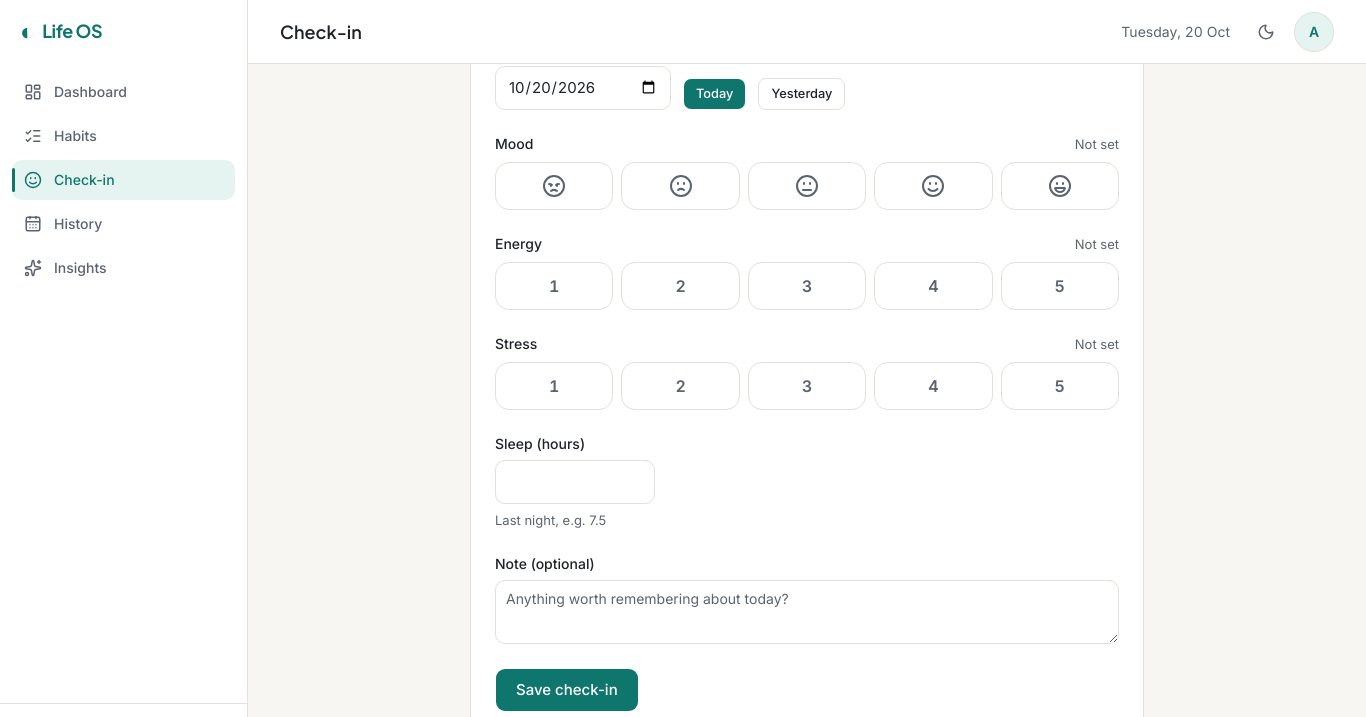
CheckInPage › needs at least one metric
(page scrolled)
Type "Only a note" into the text box labelled "Note (optional)".
click(807, 612); type("Only a note")  # box left=495, top=580, right=1119, bottom=644
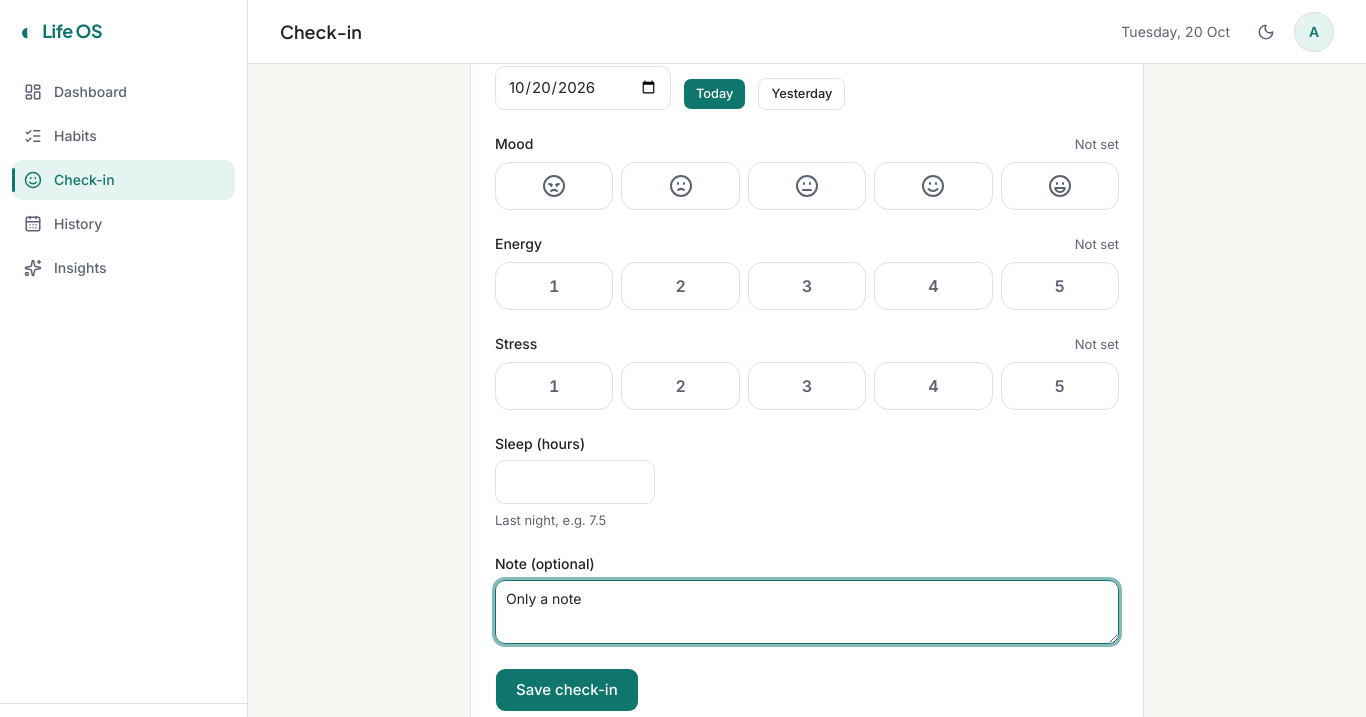
Click the button "Save check-in".
click(567, 690)  # box left=495, top=668, right=639, bottom=712
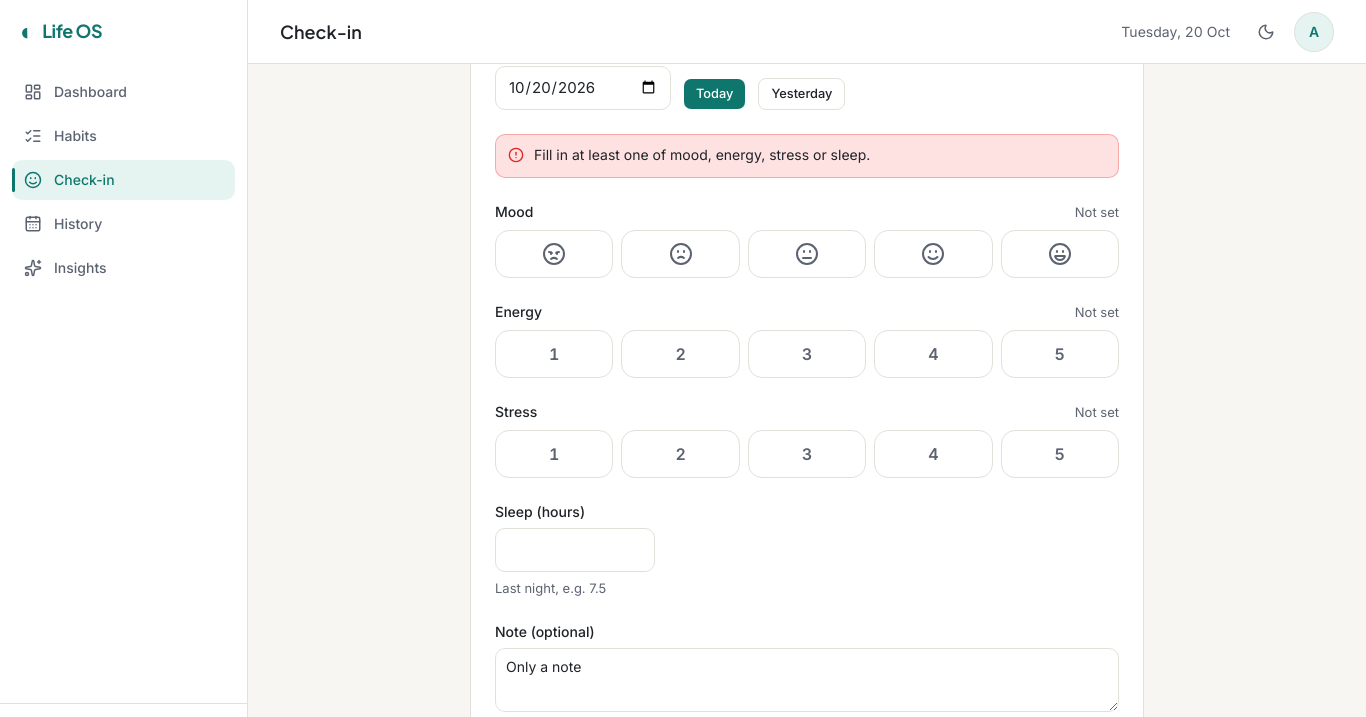
Now the message reads "Fill in at least one of mood, energy, stress or sleep.", box left=534, top=146, right=870, bottom=163
